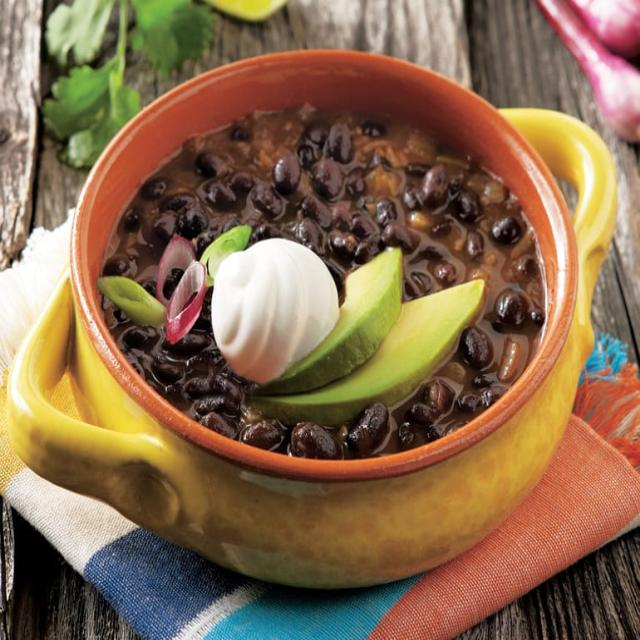aguacate: (326, 262, 486, 428)
frijoles: (90, 83, 573, 490)
